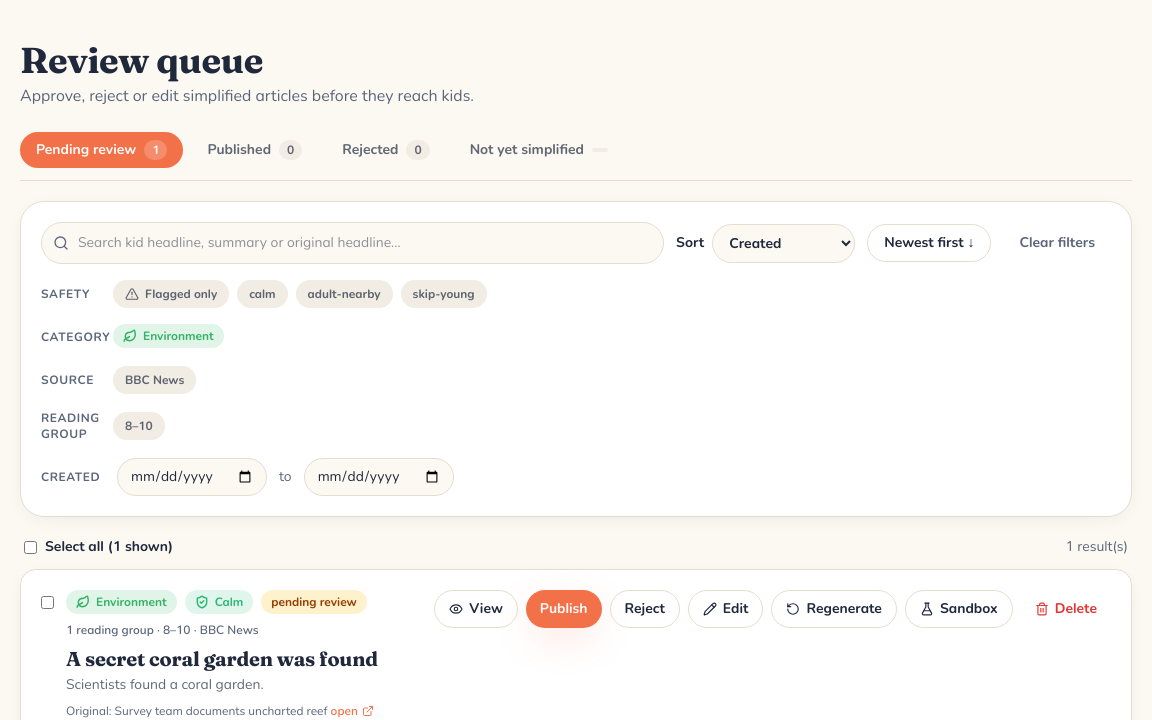
Scenario: reading a story before judging it › hands off to Edit without losing the story
Check: the button "A secret coral garden was found" is shown, box x1=66 y1=646 x2=378 y2=671
Click the button "View" at [476, 609], box x1=434 y1=590 x2=518 y2=628
(page scrolled)
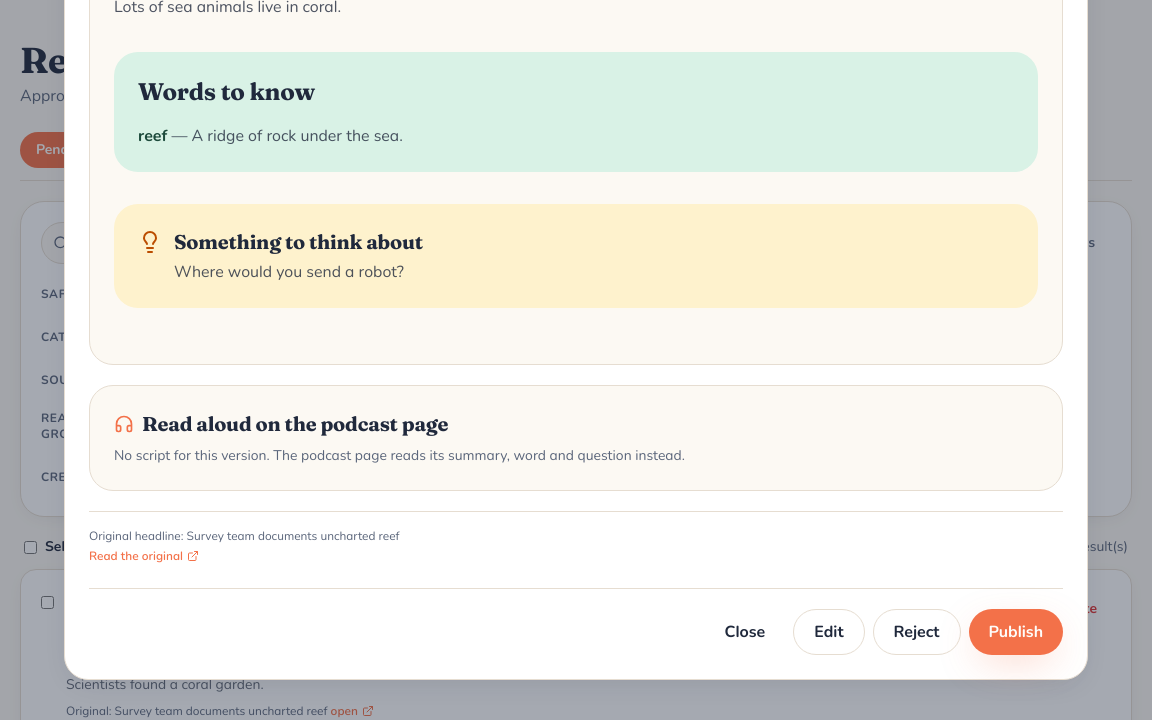
Click the button "Edit" at [829, 632], box x1=793 y1=609 x2=864 y2=655
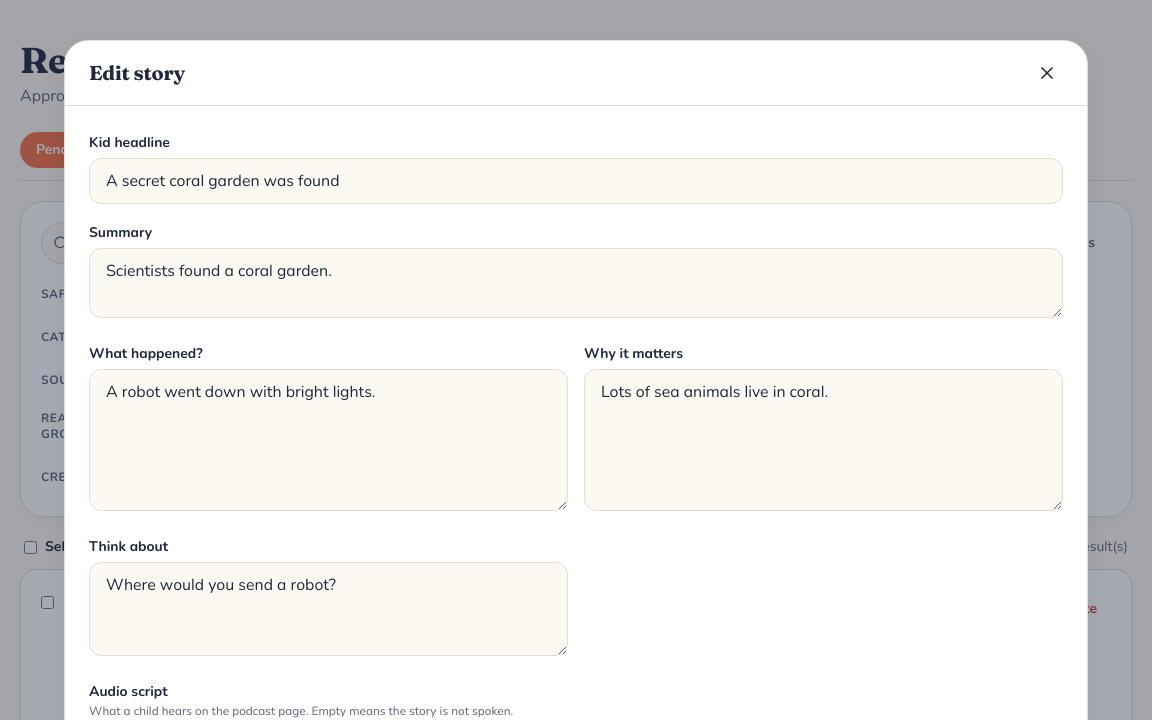
Check: the field showing "A secret coral garden was found" is shown, box x1=89 y1=158 x2=1063 y2=204
